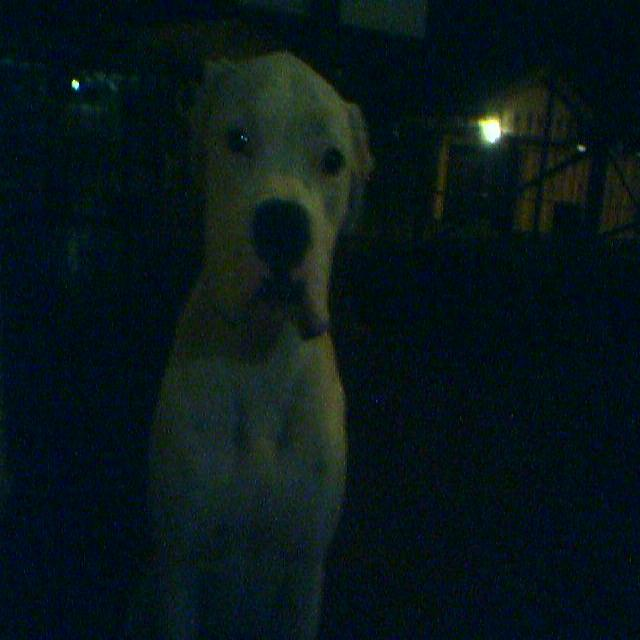Dog: (123, 53, 477, 640)
